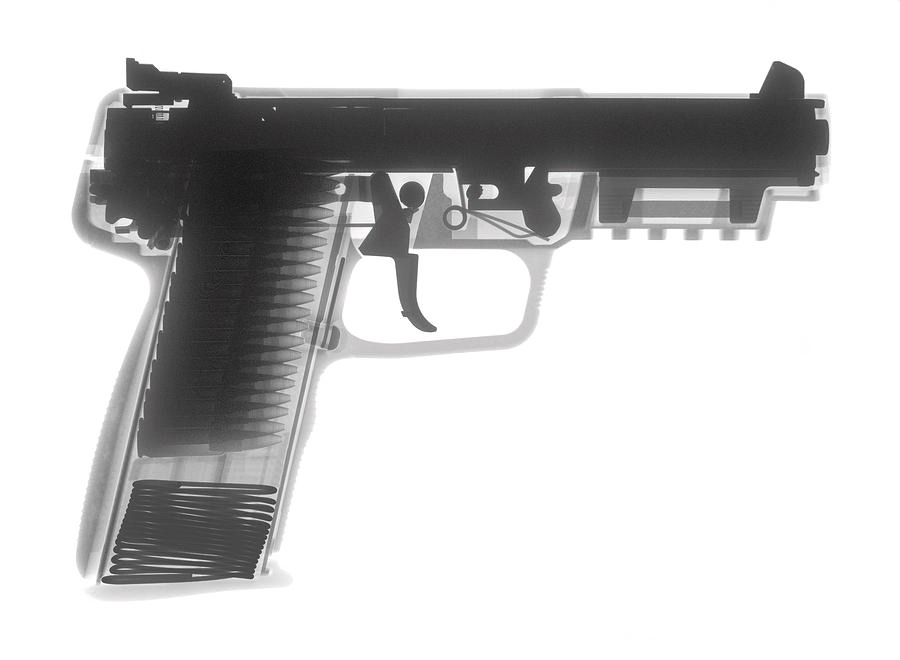gun: (61, 52, 837, 606)
